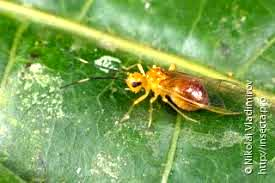Helopeltis-insect: (120, 63, 215, 116)
